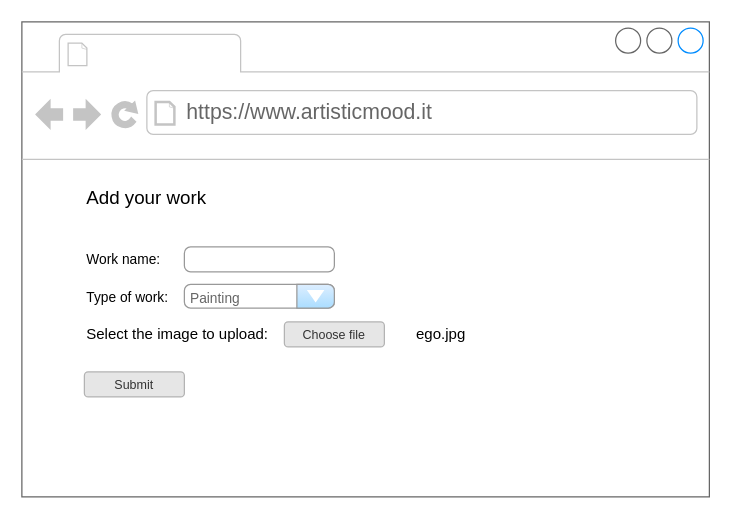
The diagram is 731 pixels wide and 519 high, and some of its shapes have lost their labels. Here are the shapes that lost their labels. From the top down, the box of each, then its label:
(96, 36, 234, 69): Add Work
(183, 246, 334, 272): Ego
